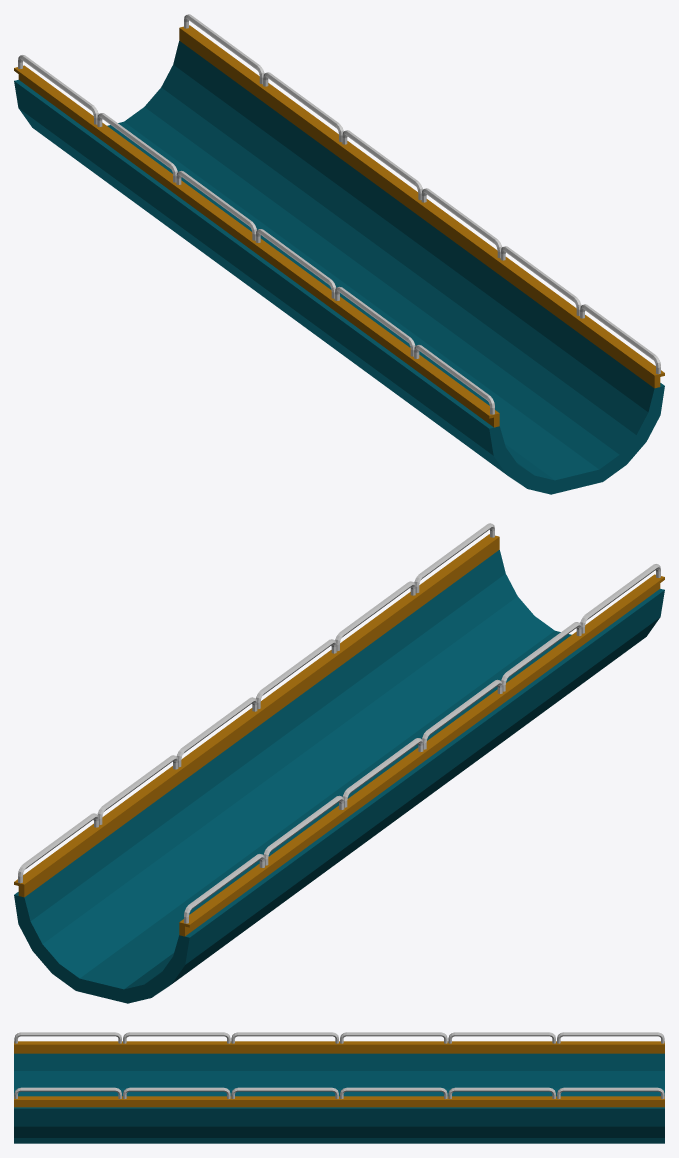
Rendered from halfpipe-straight_l.FBX.
The picture shows the model from 3 angles, top to bottom: view 1: azimuth 30°, elevation 25°; view 2: azimuth 150°, elevation 25°; view 3: azimuth 270°, elevation 25°; orthographic projection. The views are drawn at different scales.
Visible parts, largest first — view 1: halfpipe-straight_l, wall_l, wall_r; view 2: halfpipe-straight_l, wall_l, wall_r; view 3: halfpipe-straight_l, wall_r, wall_l.
Part boxes in pixels (left/top/right/bottom): halfpipe-straight_l: left=14, top=41, right=664, bottom=494; wall_l: left=179, top=14, right=664, bottom=388; wall_r: left=14, top=55, right=499, bottom=427; halfpipe-straight_l: left=14, top=550, right=664, bottom=1003; wall_l: left=14, top=523, right=499, bottom=897; wall_r: left=179, top=564, right=664, bottom=936; halfpipe-straight_l: left=14, top=1053, right=664, bottom=1143; wall_r: left=14, top=1032, right=664, bottom=1053; wall_l: left=14, top=1087, right=664, bottom=1107.
Size of what is drawn, in the model's own units: 128 by 600 by 75.73.
